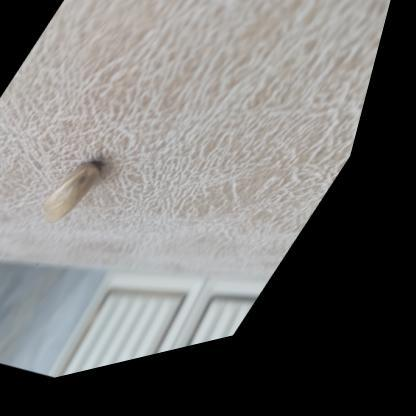pistachio: (49, 160, 105, 220)
